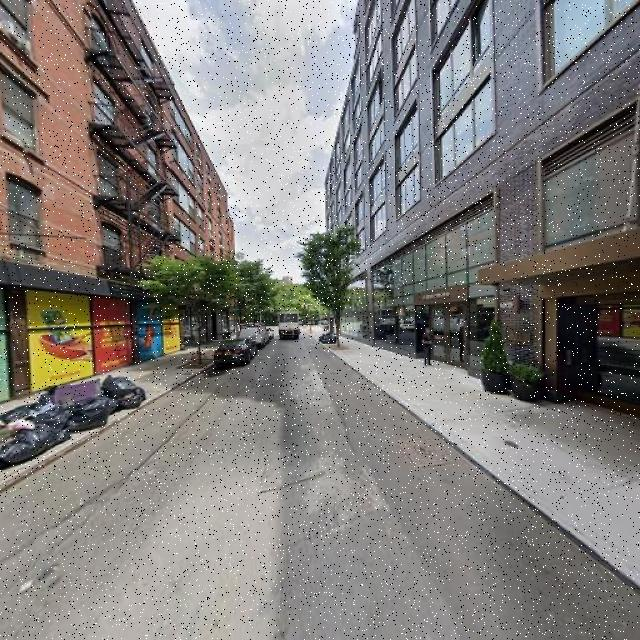Building: (327, 1, 640, 427), (1, 1, 233, 404)
